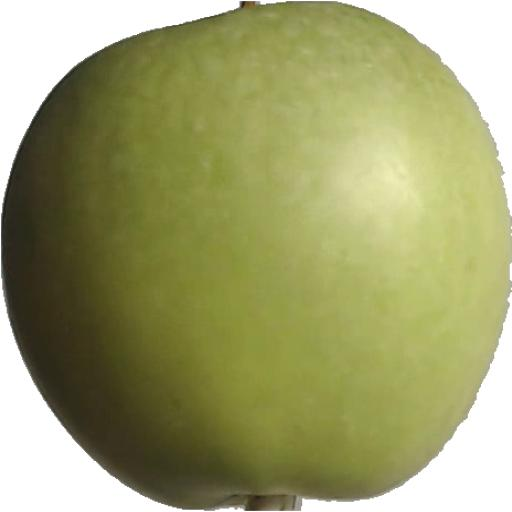apple-unripe: (0, 0, 512, 503)
